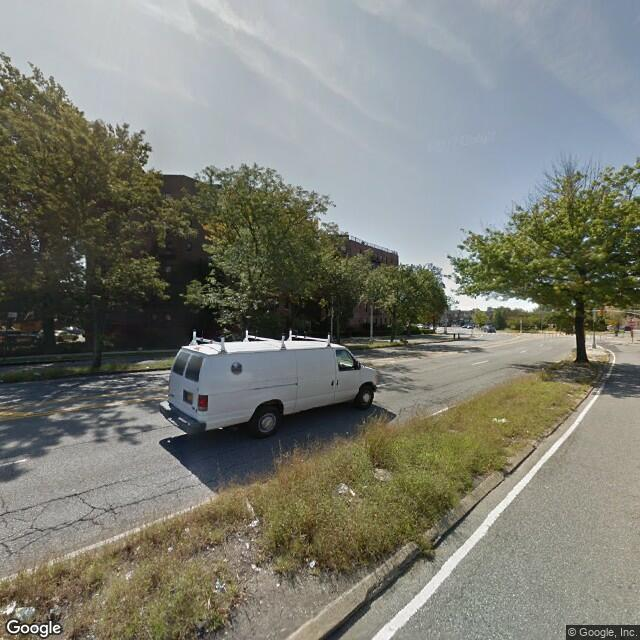litter: (1, 597, 39, 616), (337, 481, 356, 498), (249, 496, 259, 524), (212, 579, 224, 597), (489, 415, 506, 423), (374, 466, 386, 477), (251, 560, 260, 569), (309, 557, 317, 567), (167, 545, 174, 552), (144, 366, 151, 371), (167, 440, 172, 442)
